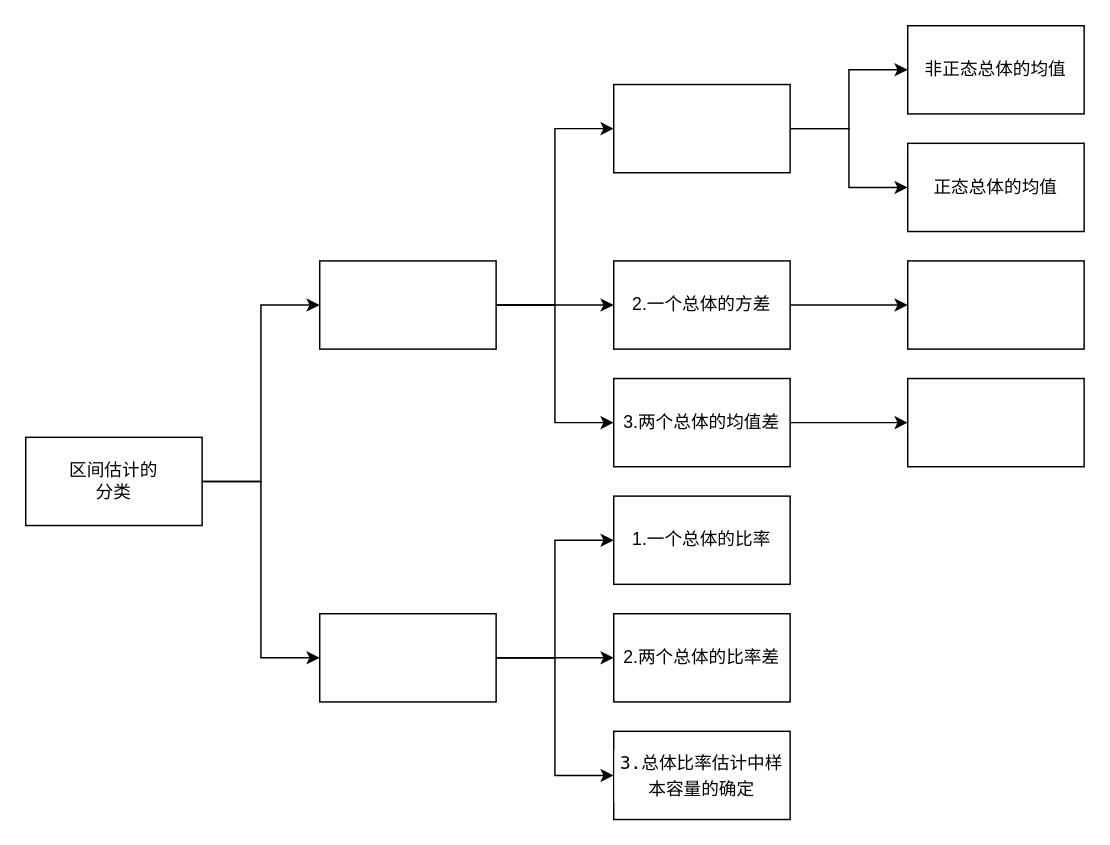
This 1110x845 diagram has some shape labels left out. Each missing label, with the centre of its shape:
1.一个总体的均值: the point at 701,128
1.均值、方差的区间估计: the point at 407,304
2.比率的区间估计: the point at 407,657
正态总体的方差: the point at 995,304
